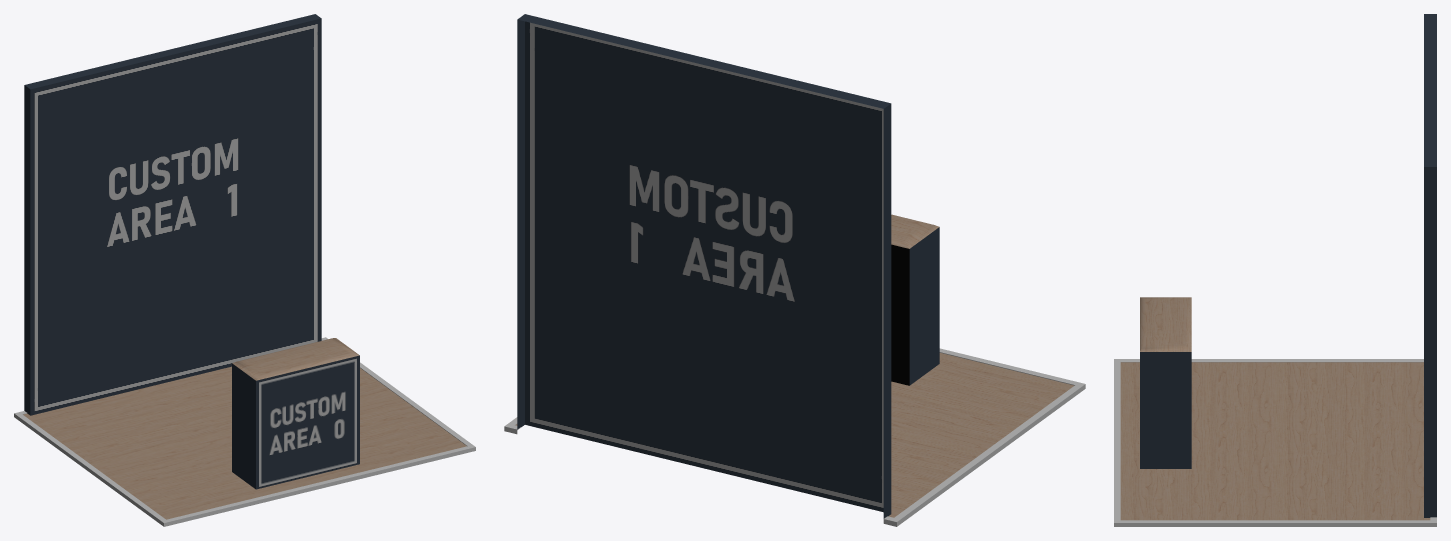
File: MStand.fbx
3 views of the same model, side by side, from view 1: azimuth 30°, elevation 25°; view 2: azimuth 150°, elevation 25°; view 3: azimuth 270°, elevation 25° (orthographic). The views are drawn at different scales.
Visible parts, largest first — view 1: stand_medium; view 2: stand_medium; view 3: stand_medium.
Part boxes in pixels (x1=…): stand_medium: x1=14, y1=14, x2=475, y2=526; stand_medium: x1=504, y1=14, x2=1085, y2=526; stand_medium: x1=1114, y1=14, x2=1436, y2=526.
Size of the model in its own units: 300 by 303 by 250.
